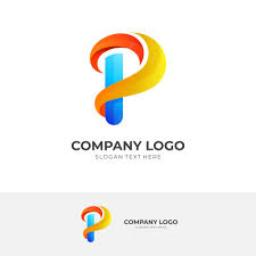a: (112, 140, 124, 150)
c: (70, 140, 80, 150)
g: (164, 140, 174, 152)
l: (146, 141, 154, 151)
m: (91, 140, 103, 152)
n: (123, 140, 133, 150)
o: (80, 140, 92, 152)
p: (104, 140, 114, 152)
y: (132, 141, 144, 151)
